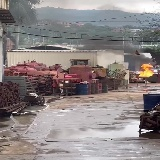fire: (138, 64, 154, 76)
